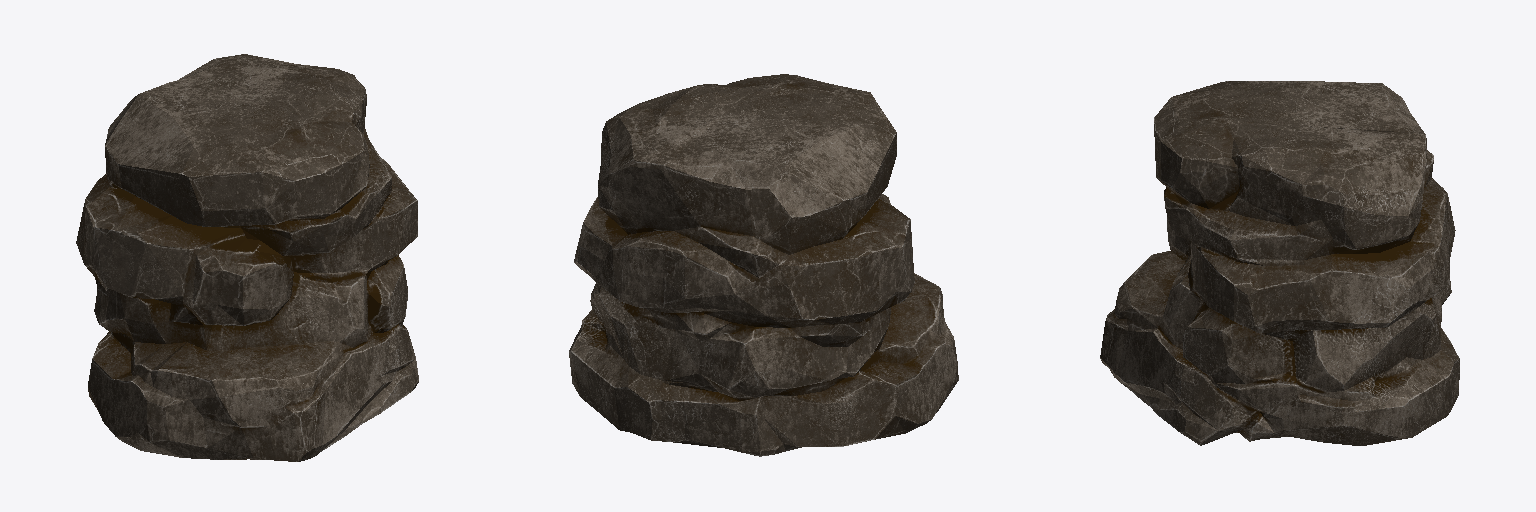
The picture shows the model from 3 angles: view 1: azimuth 30°, elevation 25°; view 2: azimuth 150°, elevation 25°; view 3: azimuth 270°, elevation 25°; orthographic projection.
Parts seen in each view (by area): view 1: RetopoGroup002; view 2: RetopoGroup002; view 3: RetopoGroup002.
Part boxes in pixels (x1,y1,x2,y2): RetopoGroup002: (76,54,418,461); RetopoGroup002: (569,74,958,456); RetopoGroup002: (1100,81,1459,445).
Size of the model in its own units: 1.03 by 0.9519 by 1.05.
1 materials, 1 textured.